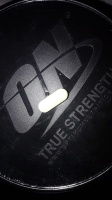Aferin: (38, 87, 69, 114)
